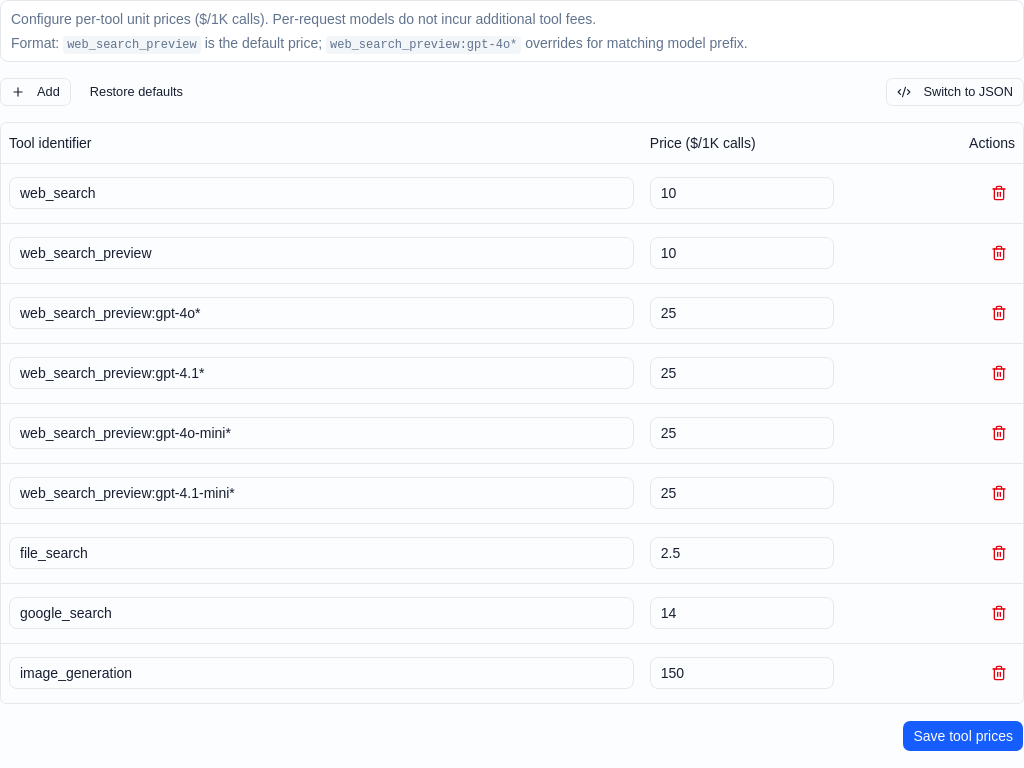
Test: tool price validation › blocks an empty price without converting it to an explicit zero
Clear the number field named "Price ($/1K calls): web_search" at [742, 193], box [650,177,834,209]
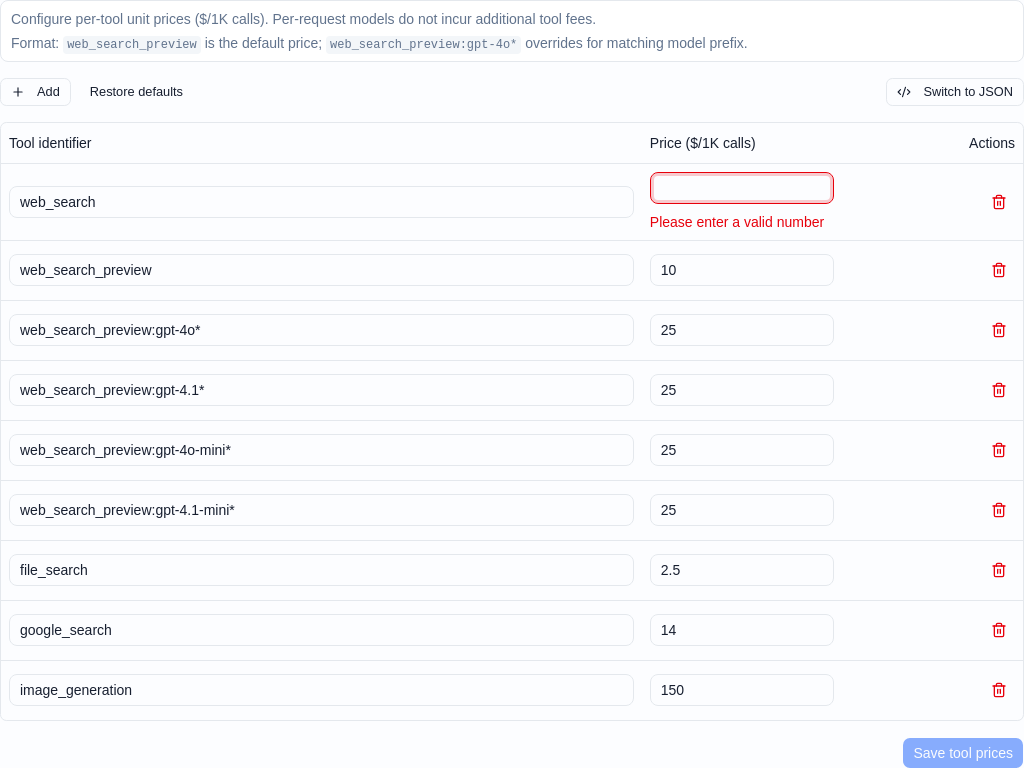
expect the text "Please enter a valid number" is shown: met, box [650,212,834,232]
expect the button "Save tool prices" is disabled: met, box [902,737,1023,767]
Type "0" into the number field named "Price ($/1K calls): web_search" at [742, 188], box [650,172,834,204]
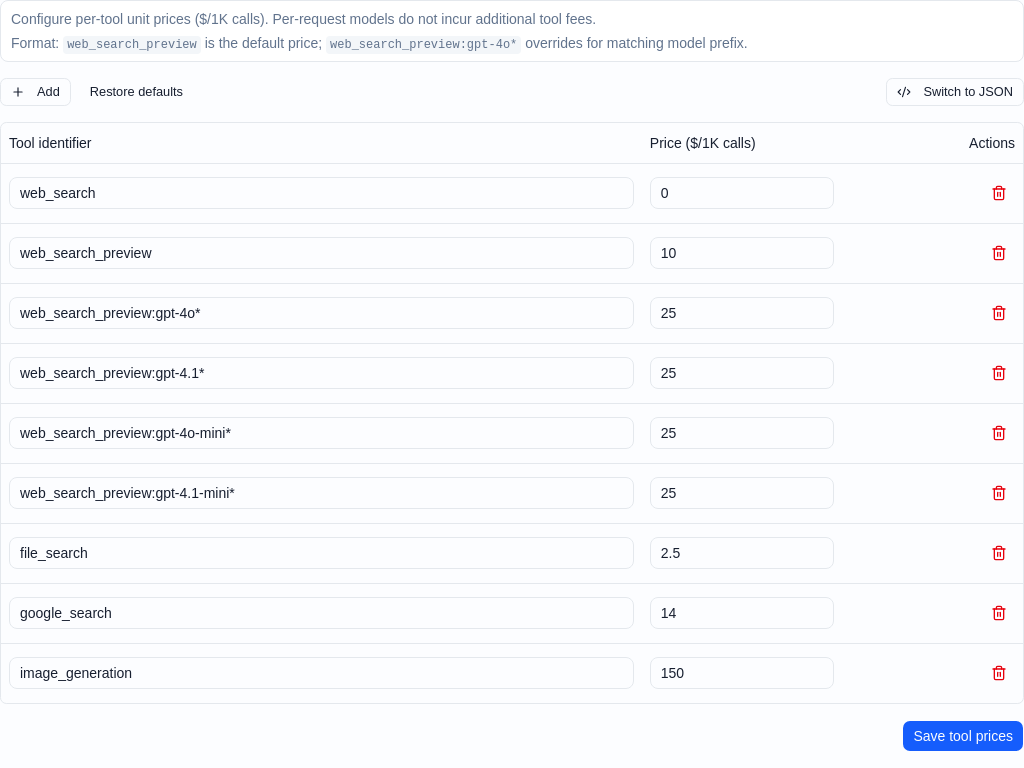
expect the button "Save tool prices" is enabled: met, box [902,720,1023,752]
Replace the text in the number field named "Price ($/1K calls): web_search" with "0.04" at [742, 193], box [650,177,834,209]
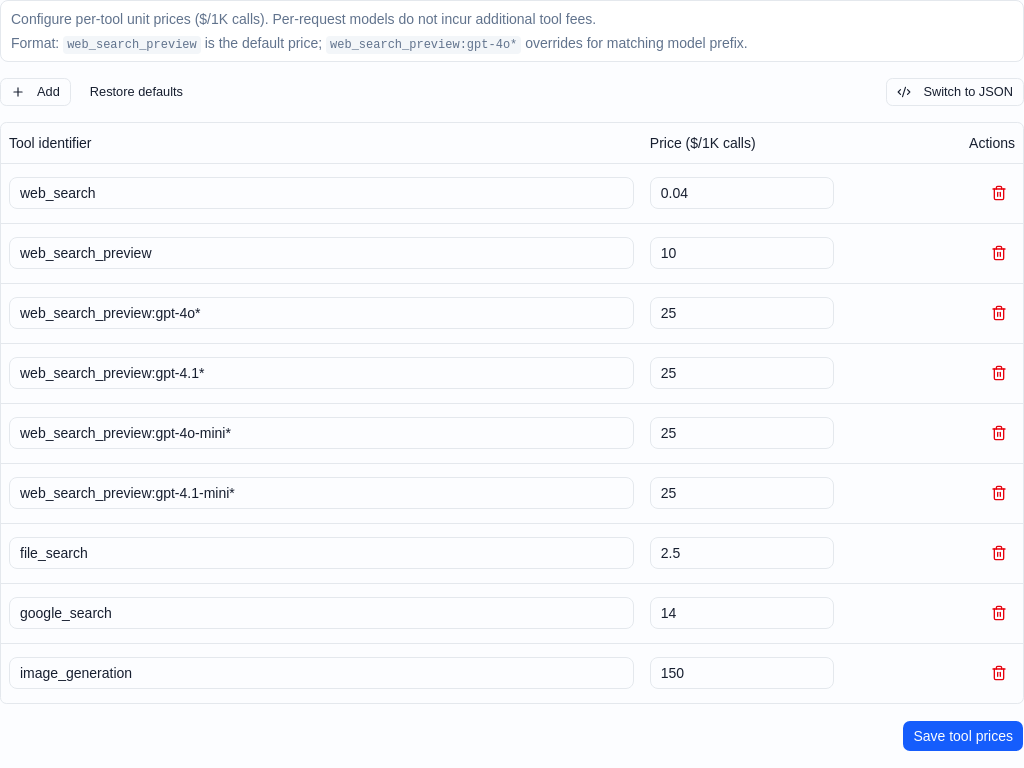
expect the button "Save tool prices" is enabled: met, box [902,720,1023,752]
Replace the text in the number field named "Price ($/1K calls): web_search" with "0.0001" at [742, 193], box [650,177,834,209]
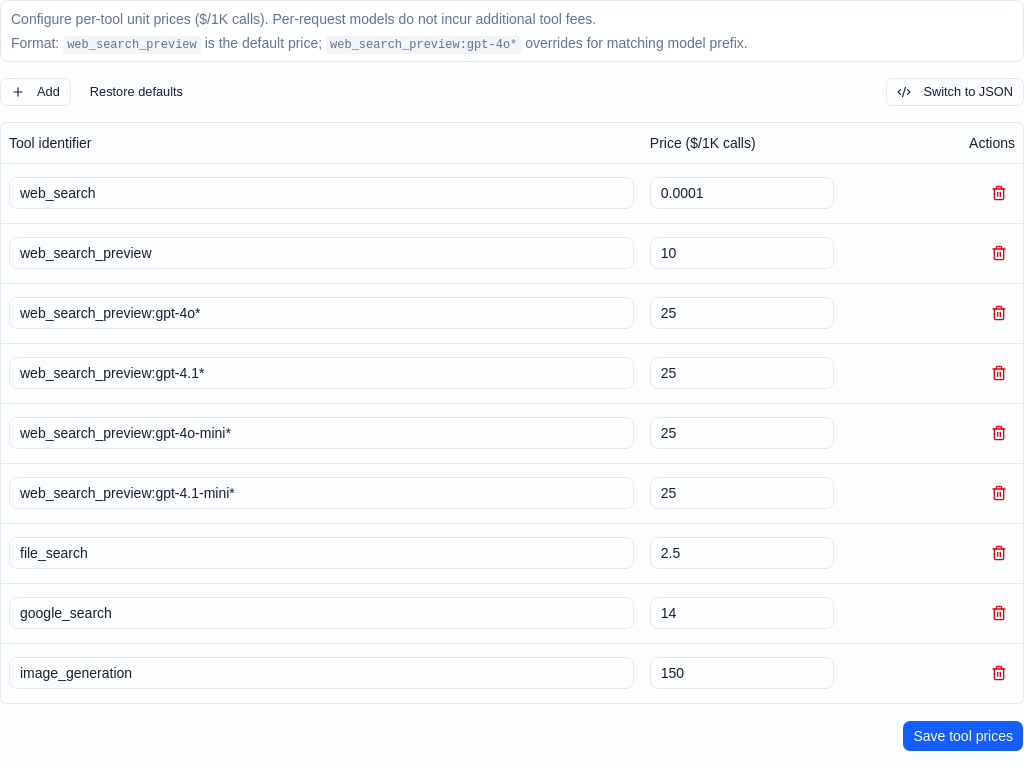
Replace the text in the number field named "Price ($/1K calls): web_search" with "0.00001" at [742, 193], box [650,177,834,209]
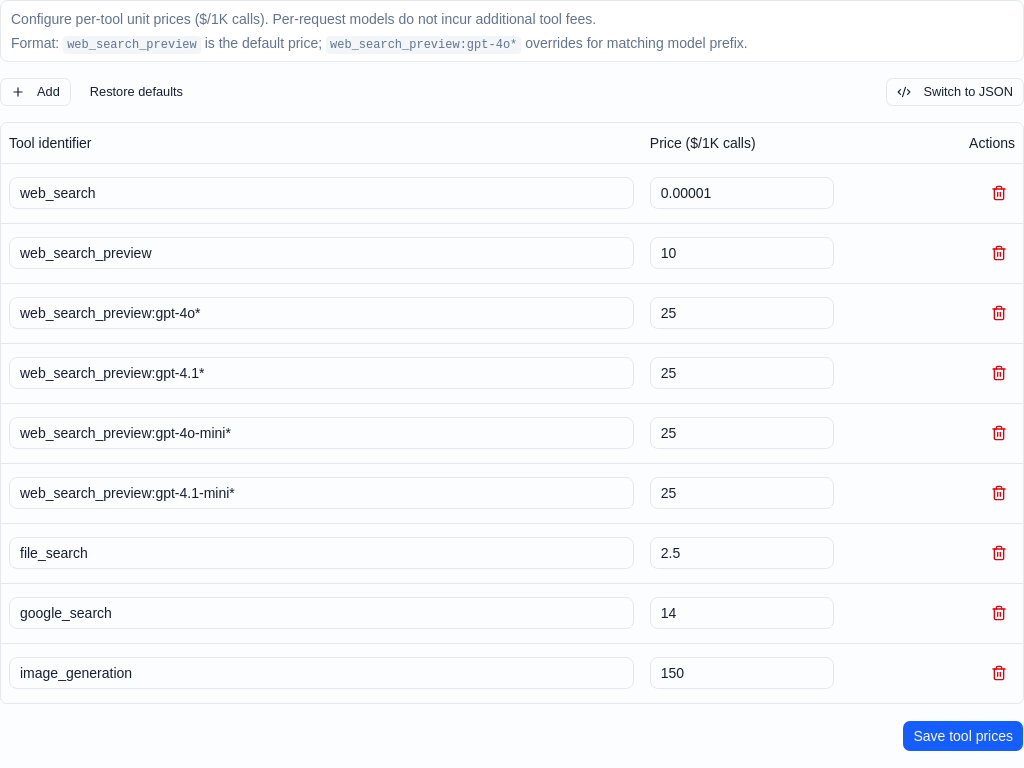
Replace the text in the number field named "Price ($/1K calls): web_search" with "-0.04" at [742, 193], box [650,177,834,209]
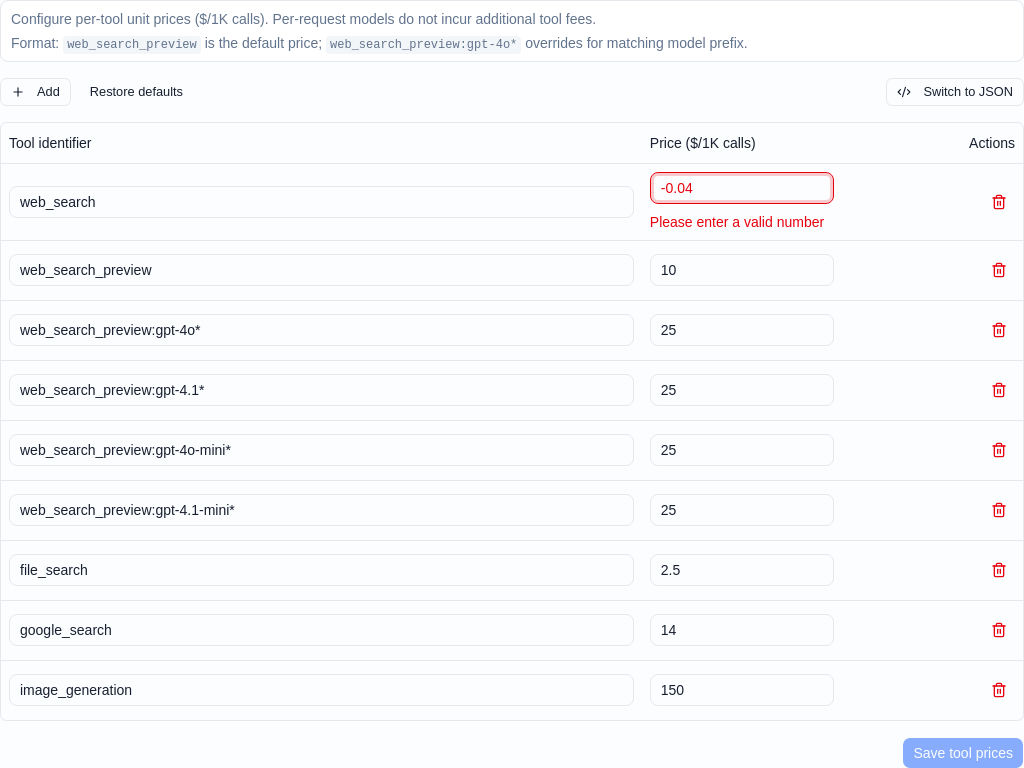
expect the button "Save tool prices" is disabled: met, box [902,737,1023,767]
